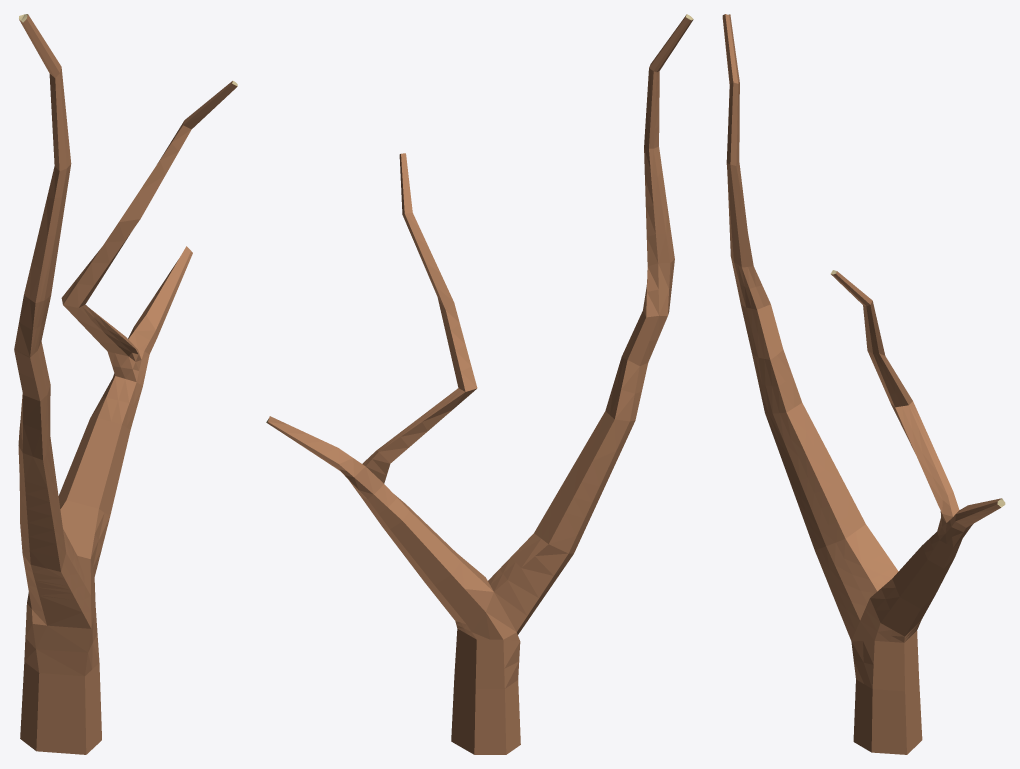
Rendered from branch.dae.
3 views of the same model, side by side, from view 1: azimuth 30°, elevation 25°; view 2: azimuth 150°, elevation 25°; view 3: azimuth 270°, elevation 25° (orthographic). The views are drawn at different scales.
Parts seen in each view (by area): view 1: Cylinder.001; view 2: Cylinder.001; view 3: Cylinder.001.
Boxes of the visible parts, x1,y1,x2,y2 form: Cylinder.001: [14, 14, 237, 754]; Cylinder.001: [266, 14, 693, 754]; Cylinder.001: [722, 14, 1005, 754].
Size of the model in its own units: 2.34 by 2.07 by 5.46.
